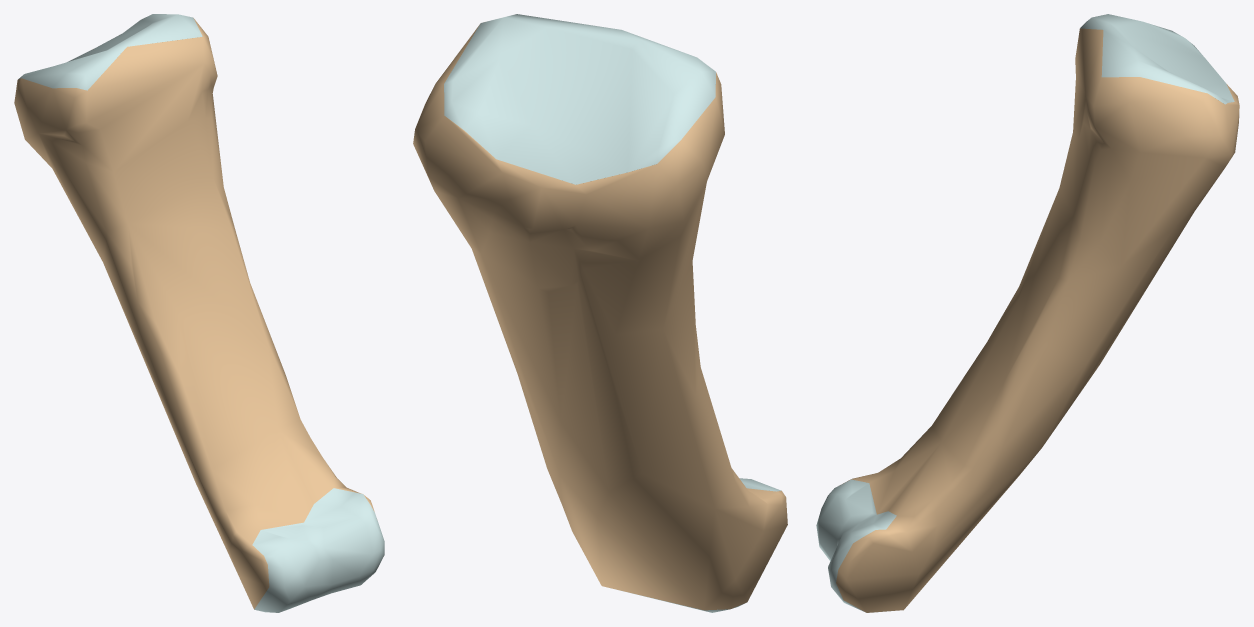
Rendered from Phalanx_proximal_3rd_finger_left.glb.
3 views of the same model, side by side, from view 1: azimuth 30°, elevation 25°; view 2: azimuth 150°, elevation 25°; view 3: azimuth 270°, elevation 25° (orthographic). The views are drawn at different scales.
Visible parts, largest first — view 1: Proximal_phalanx_of_3rd_finger.l_Generated_Mesh_From_X3D.707; view 2: Proximal_phalanx_of_3rd_finger.l_Generated_Mesh_From_X3D.707; view 3: Proximal_phalanx_of_3rd_finger.l_Generated_Mesh_From_X3D.707.
Part boxes in pixels (<box>): Proximal_phalanx_of_3rd_finger.l_Generated_Mesh_From_X3D.707: <box>14,14,384,612</box>; Proximal_phalanx_of_3rd_finger.l_Generated_Mesh_From_X3D.707: <box>413,14,787,612</box>; Proximal_phalanx_of_3rd_finger.l_Generated_Mesh_From_X3D.707: <box>816,14,1239,612</box>.
Bounding box in the file's own units: 0.019 × 0.0421 × 0.0302.
